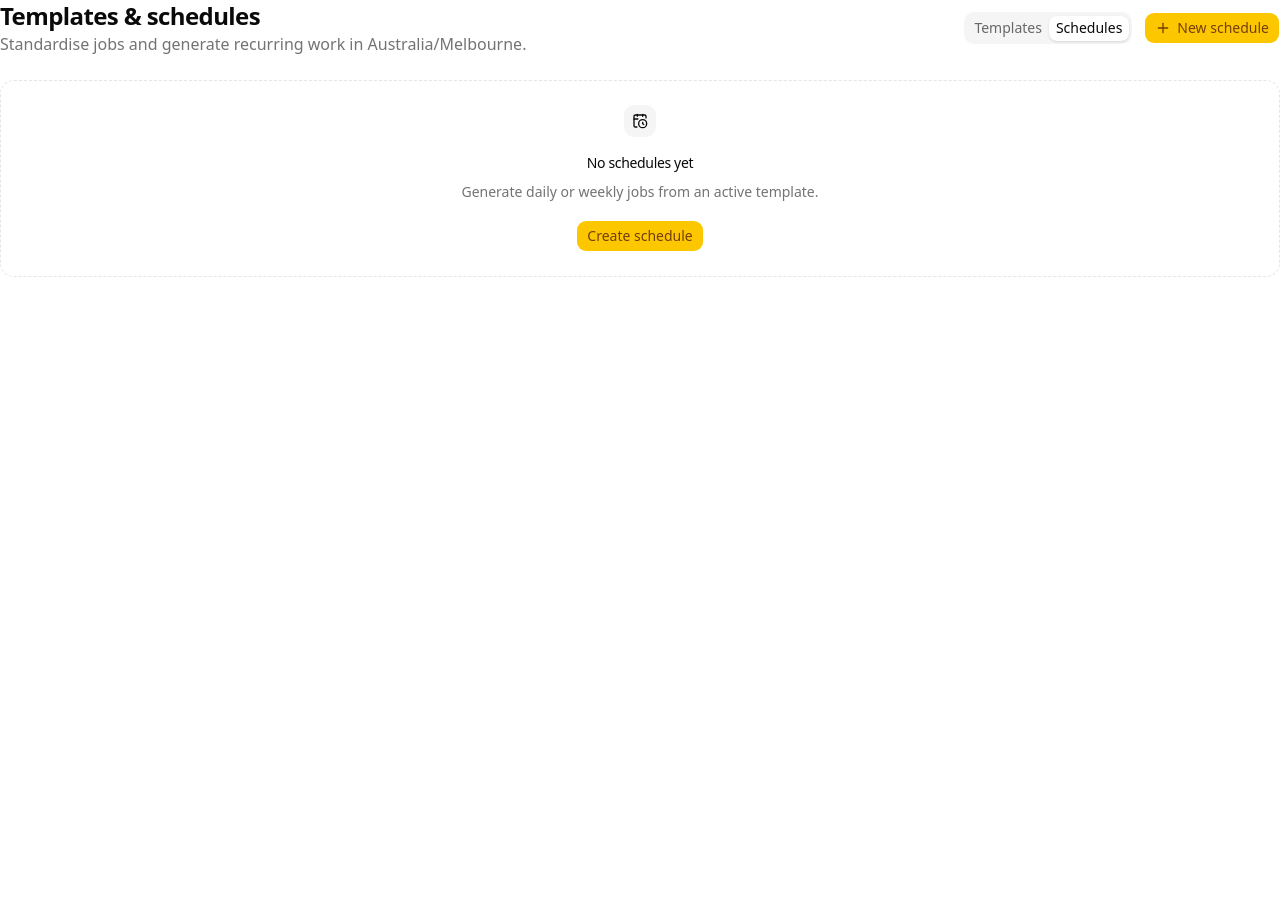
TemplateScheduleWorkspace › allows an unassigned schedule when no employee is available
Click the button "New schedule".
click(1212, 28)  # box [1144,12,1279,44]
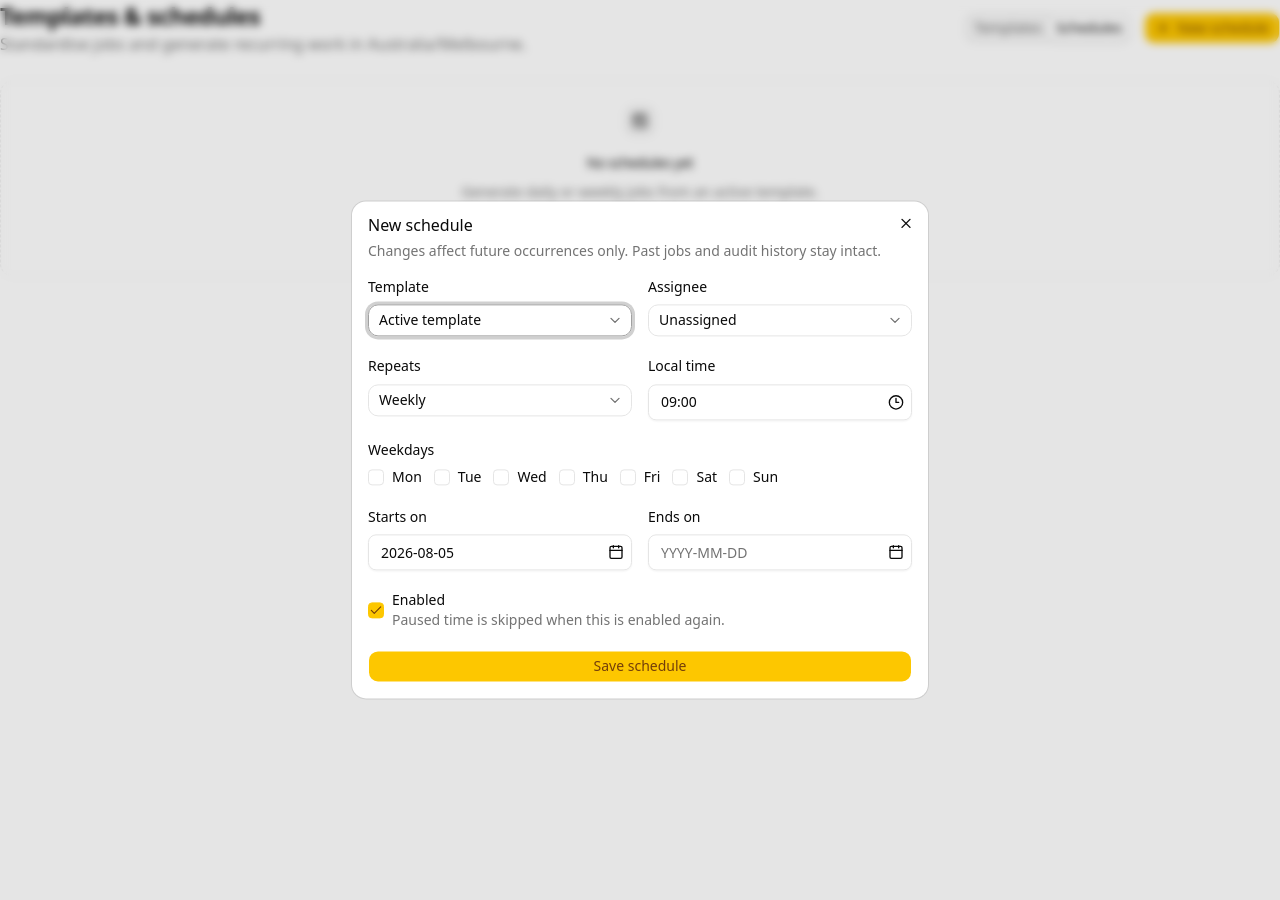
Expected: the dropdown named "Assignee" shows "Unassigned", [648,305,912,337]
